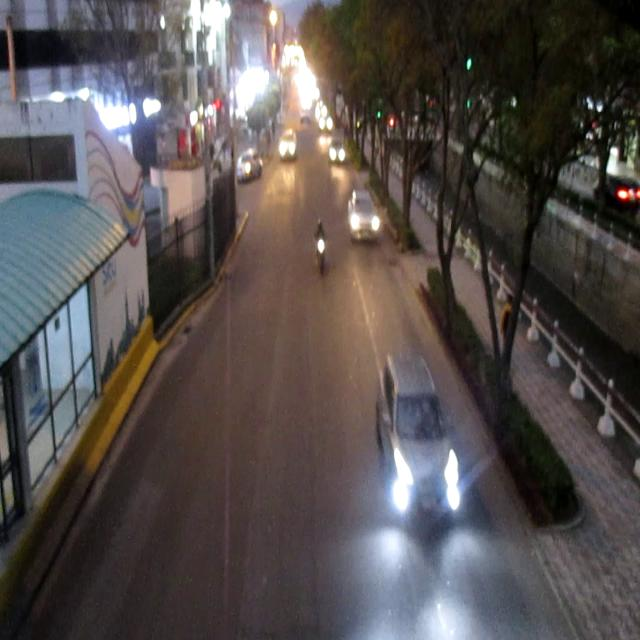MOTORCYCLE: (315, 220, 327, 273)
SUV: (375, 355, 466, 522)
